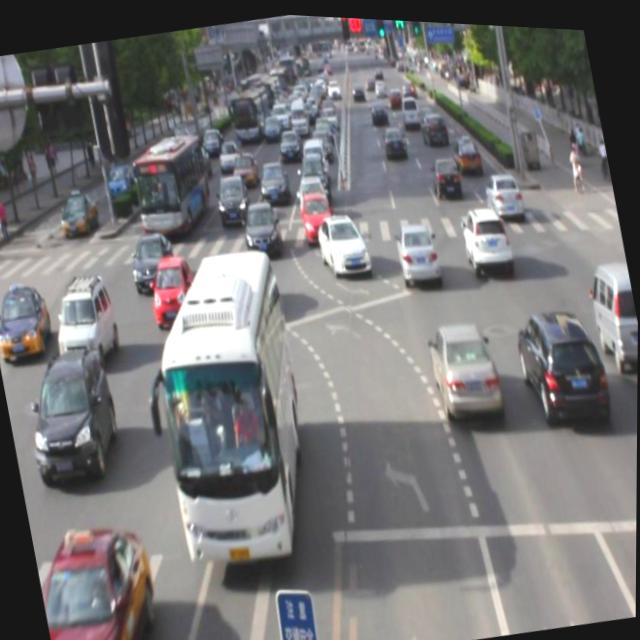car: (31, 511, 171, 640), (20, 341, 127, 485), (510, 292, 611, 427), (424, 306, 505, 420), (312, 205, 374, 278), (146, 249, 202, 327), (457, 196, 514, 271), (127, 225, 181, 296), (390, 216, 442, 284)
truck: (583, 248, 639, 369)
van: (135, 240, 325, 569)
